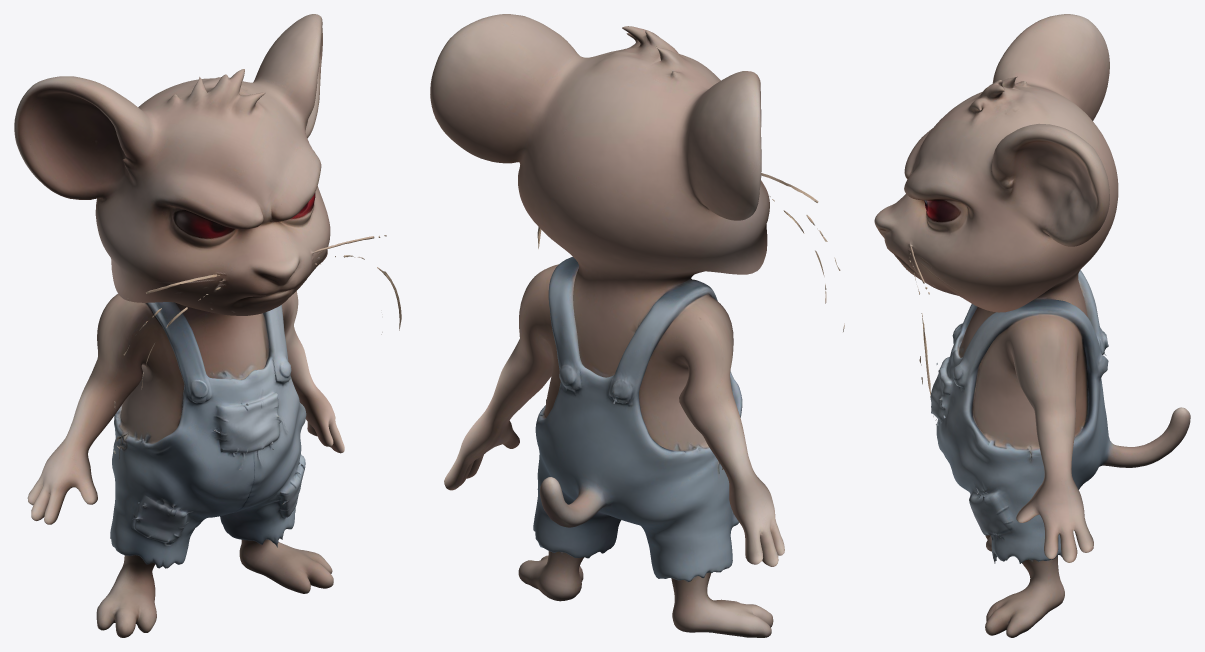
File: curut_cemberut.glb
The picture shows the model from 3 angles, left to right: view 1: azimuth 30°, elevation 25°; view 2: azimuth 150°, elevation 25°; view 3: azimuth 270°, elevation 25°; orthographic projection. The views are drawn at different scales.
Parts seen in each view (by area): view 1: tripo_node_700b598e-093e-4a98-9bf1-5b713394e43c; view 2: tripo_node_700b598e-093e-4a98-9bf1-5b713394e43c; view 3: tripo_node_700b598e-093e-4a98-9bf1-5b713394e43c.
Part boxes in pixels (x1,y1,x2,y2): tripo_node_700b598e-093e-4a98-9bf1-5b713394e43c: [14, 14, 401, 637]; tripo_node_700b598e-093e-4a98-9bf1-5b713394e43c: [430, 14, 844, 637]; tripo_node_700b598e-093e-4a98-9bf1-5b713394e43c: [874, 14, 1190, 637].
Size of the model in its own units: 0.5946 by 0.9994 by 0.5553.
Materials: 1 (1 with a texture image).
